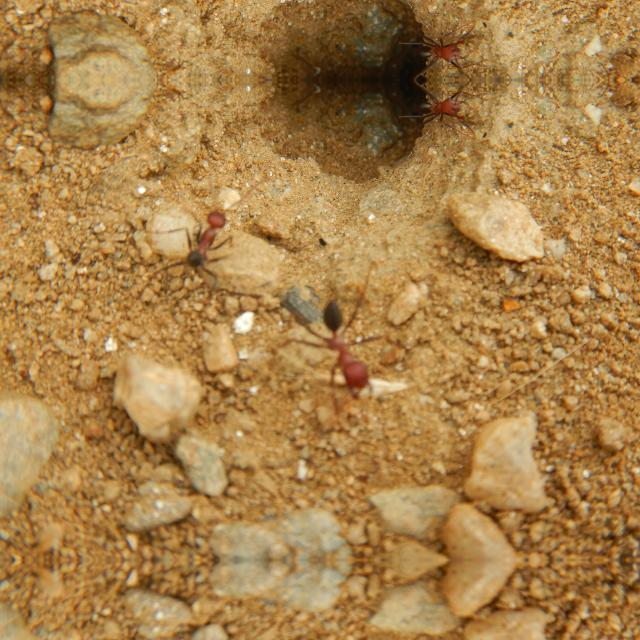Cataglyphis: (295, 292, 393, 398), (162, 200, 244, 282), (406, 85, 476, 129), (406, 31, 476, 75)
